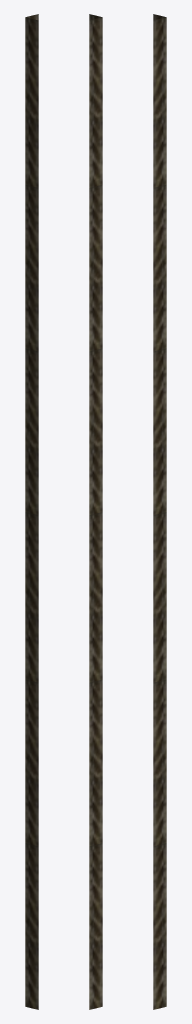
File: pir_m_prp_mng_elevator_rope.fbx
3 renders of one model, left to right at view 1: azimuth 90°, elevation 25°; view 2: azimuth 150°, elevation 25°; view 3: azimuth 270°, elevation 25°, orthographic.
Visible parts, largest first — view 1: lod_high; view 2: lod_high; view 3: lod_high.
Boxes of the visible parts, x1=… form: lod_high: x1=25, y1=14, x2=38, y2=1009; lod_high: x1=89, y1=14, x2=102, y2=1009; lod_high: x1=153, y1=14, x2=166, y2=1009.
Size of the model in its own units: 44.72 by 3205 by 38.73.
1 material, 1 textured.
